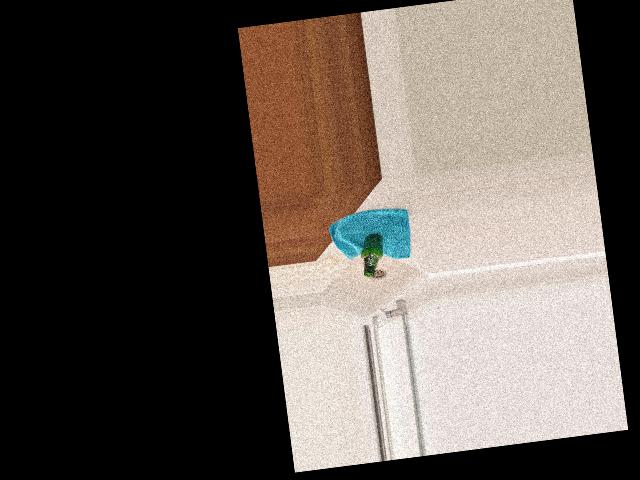beer: (358, 231, 386, 276)
